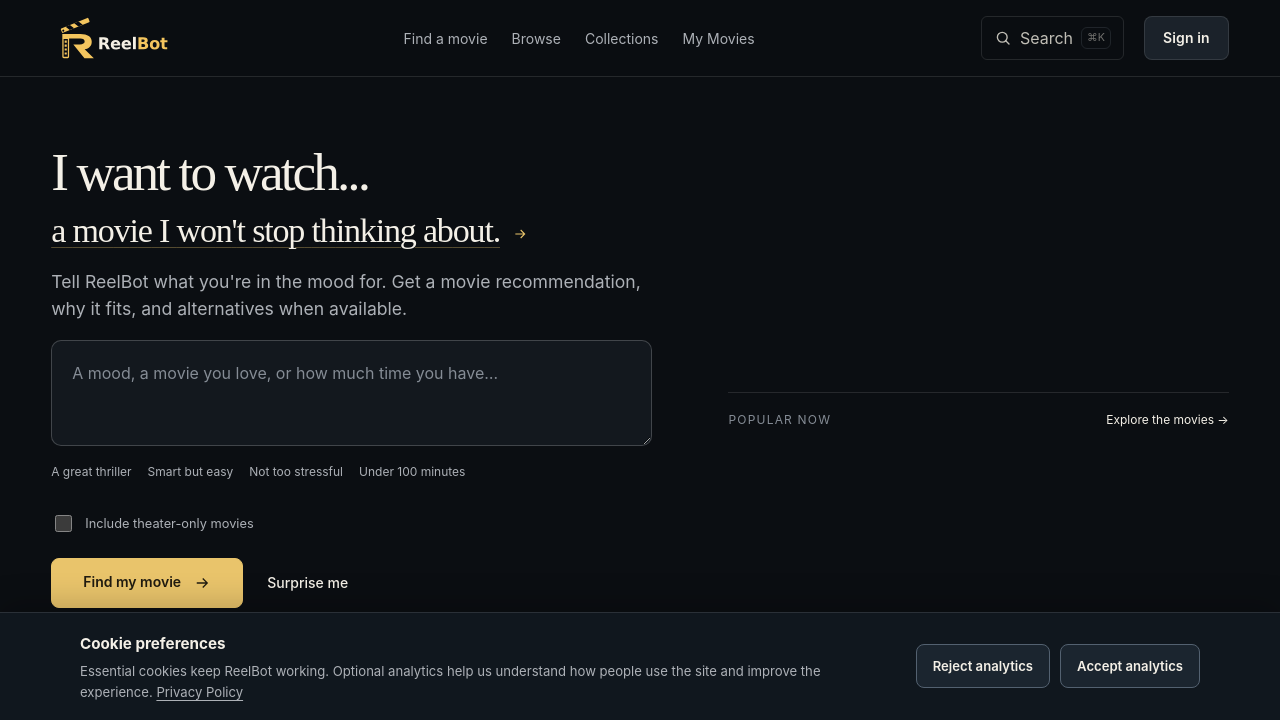
it: exposes the core navigation and global movie search
Expected: the link "Browse" is shown, [512,30,561,47]
Expected: the link "My Movies" is shown, [682,30,755,47]
Click the button with aria-label "Search movies" at (1052, 38), box [981,16,1124,60]
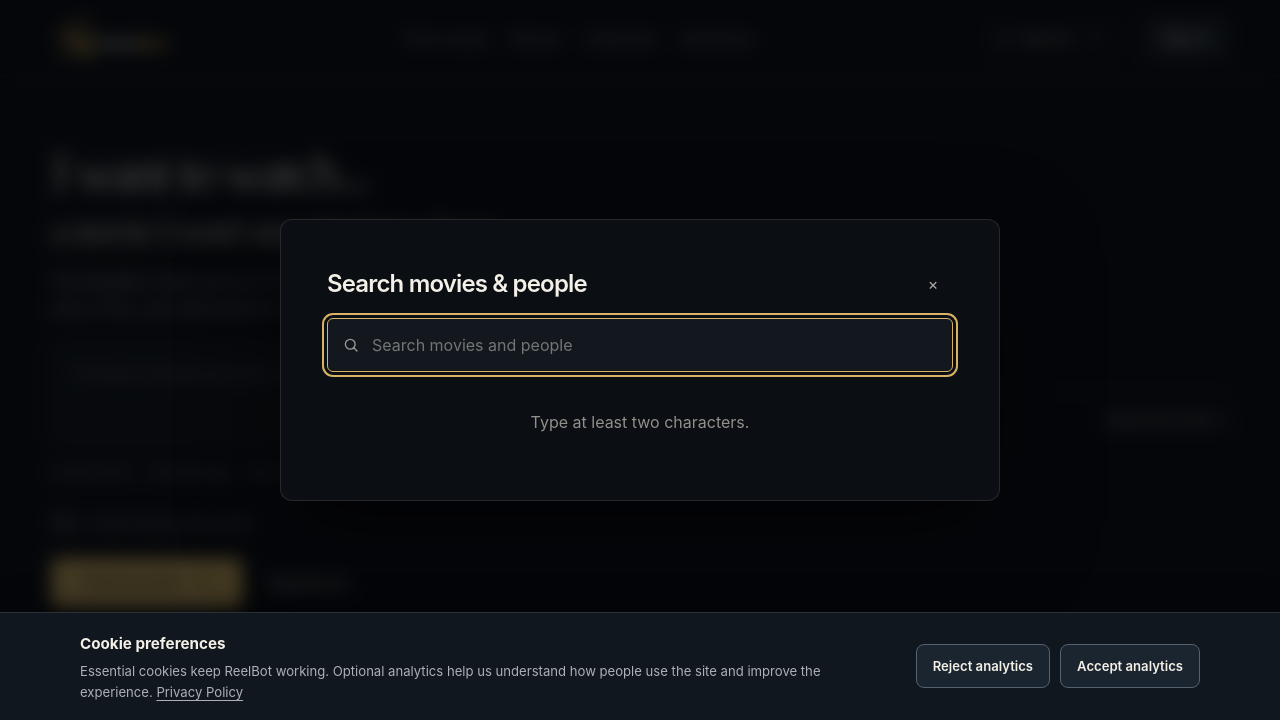
Expected: the dialog "Search movies & people" is shown, [280,219,1000,501]
